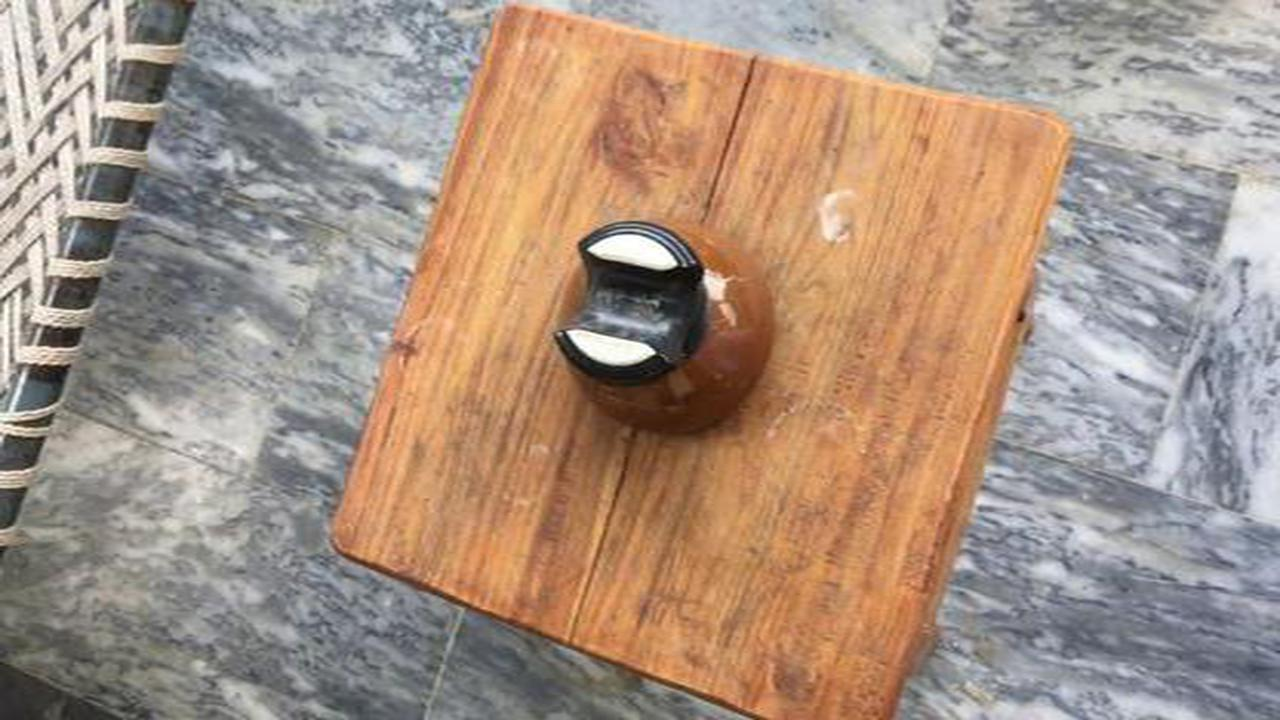insulator_pin: (524, 201, 804, 466)
